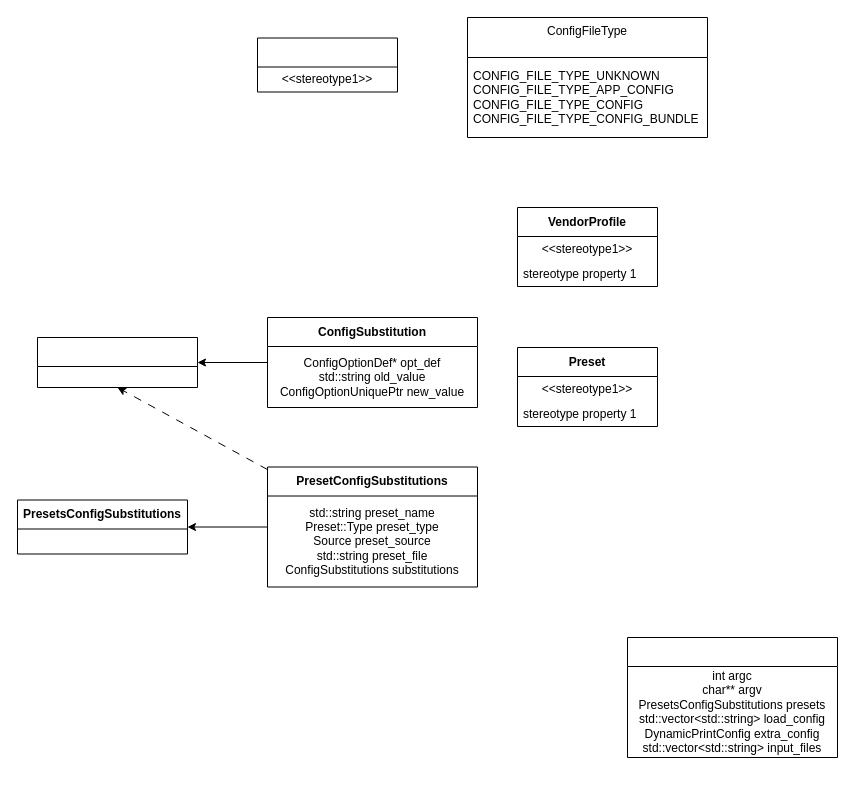
This 855x786 diagram has some shape labels left out. Each missing label, with the box of its shape:
ConfigSubstitutions: (36, 336, 198, 388)
GUI_InitParams: (626, 636, 838, 758)
Semver: (256, 37, 398, 92)
